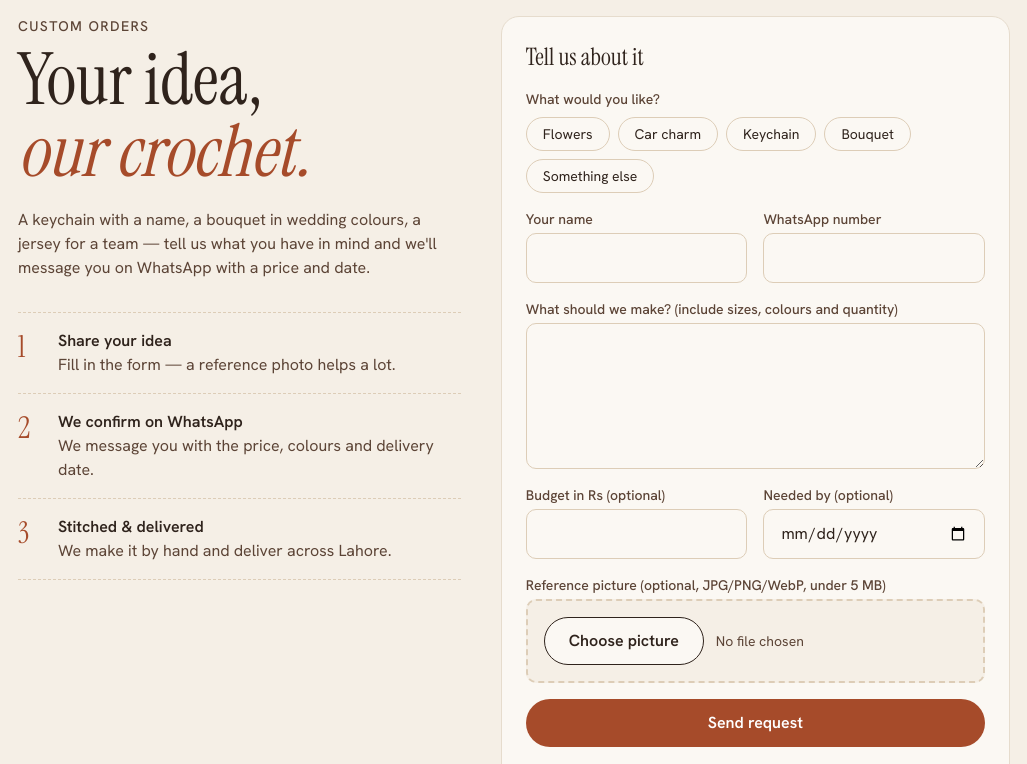
Test case: explains a 429 response
The width and height of the screenshot is (1027, 764).
Type "Sara" into the field labelled "Your name". click: (637, 258)
box: [526,233,747,283]
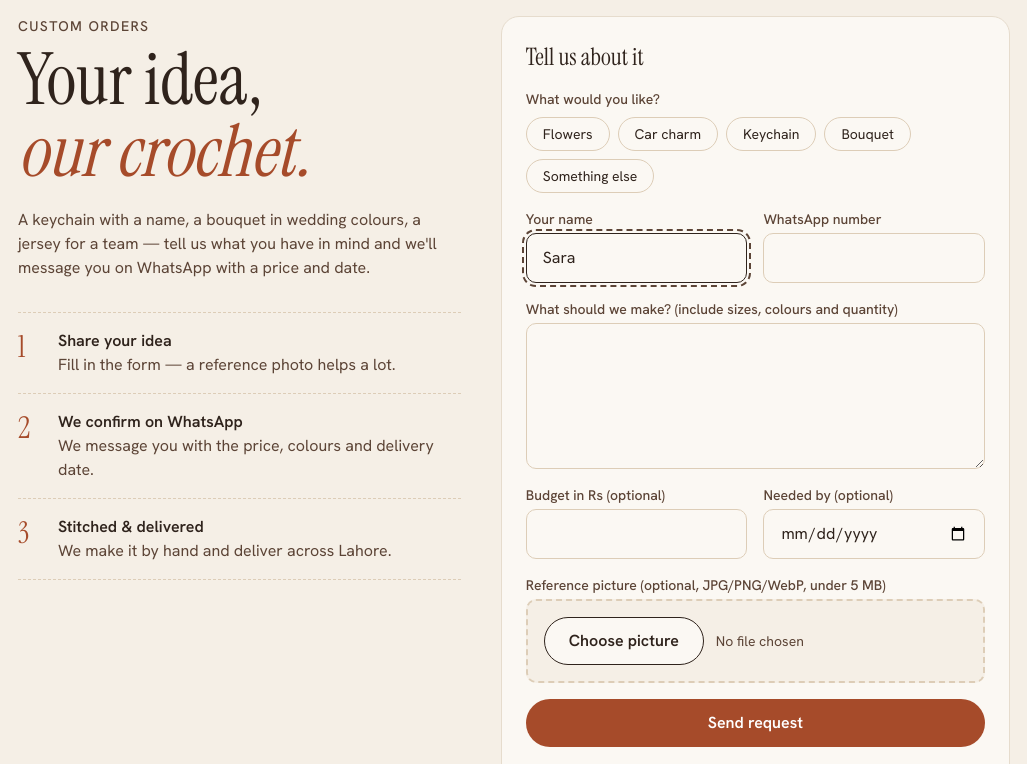
Type "0300 1234567" into the field labelled "WhatsApp number". click: (874, 258)
box: [763,233,985,283]
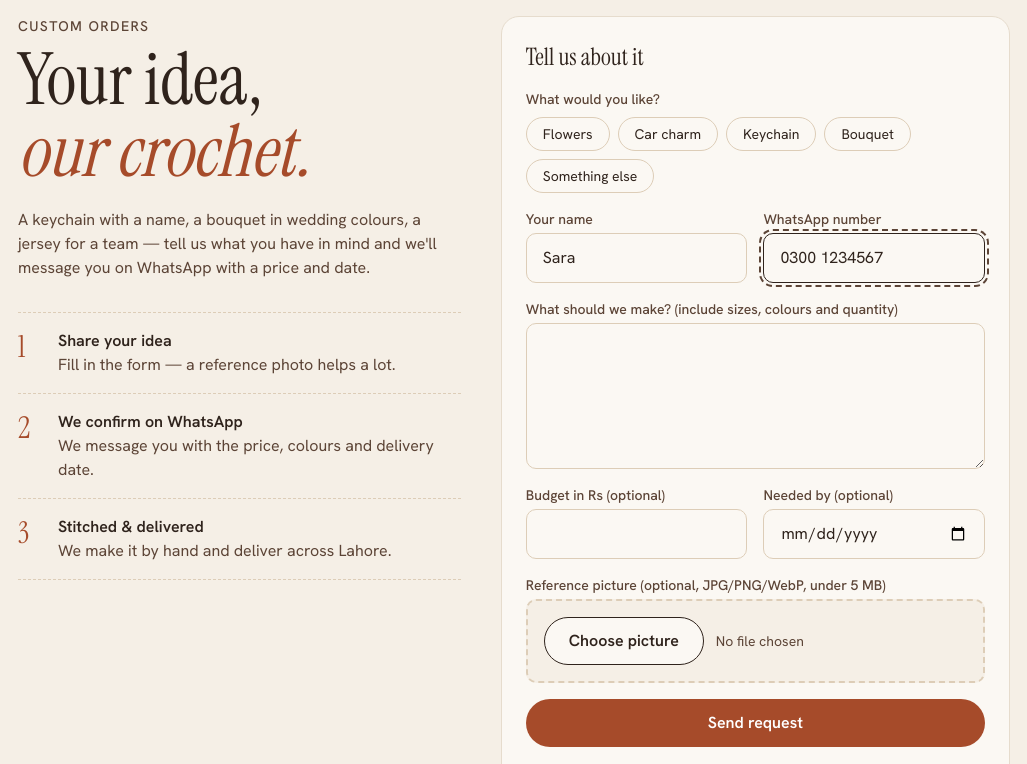
Type "A jersey with a name" into the text box labelled "What should we make? (include sizes, colours and quantity)". click: (755, 396)
box: [526,323,985,469]
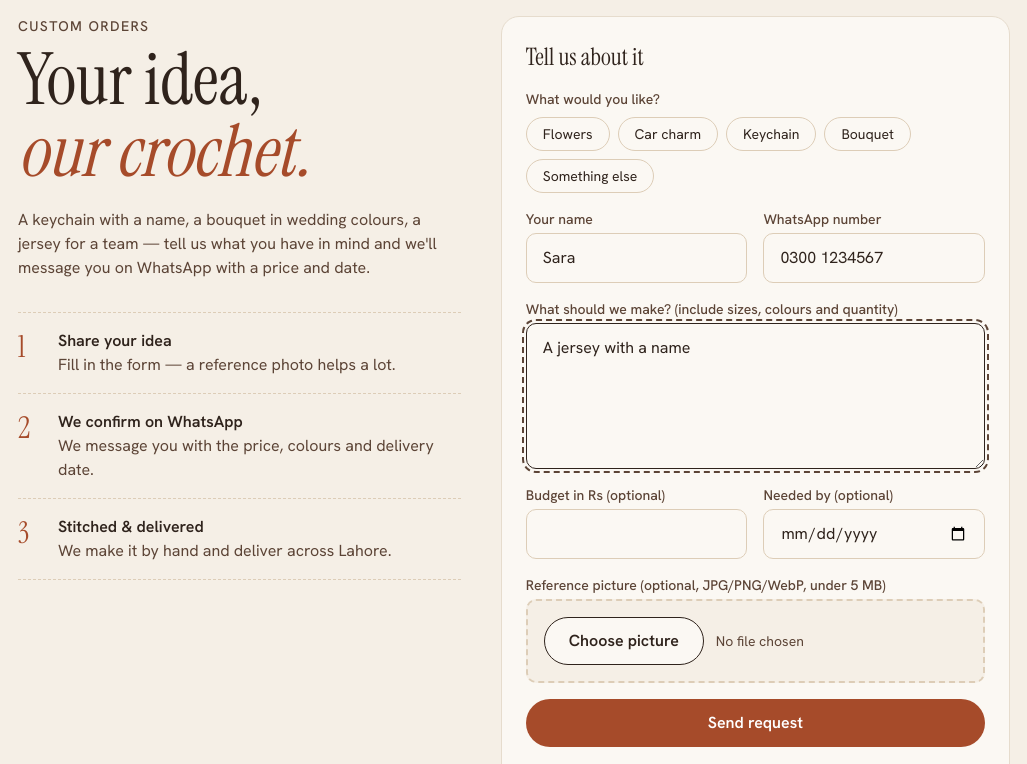
Click the button "Send request". click: (755, 723)
box: [526,699,985,747]
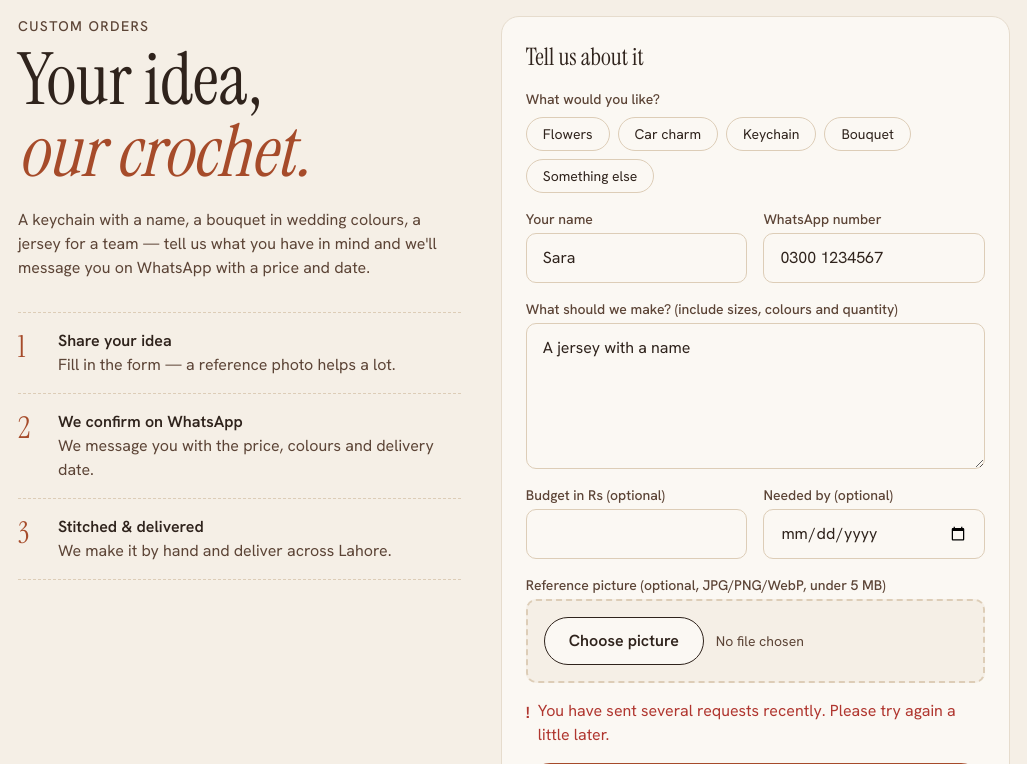
expect the message shows "several requests recently": met, box [538,700,956,745]
